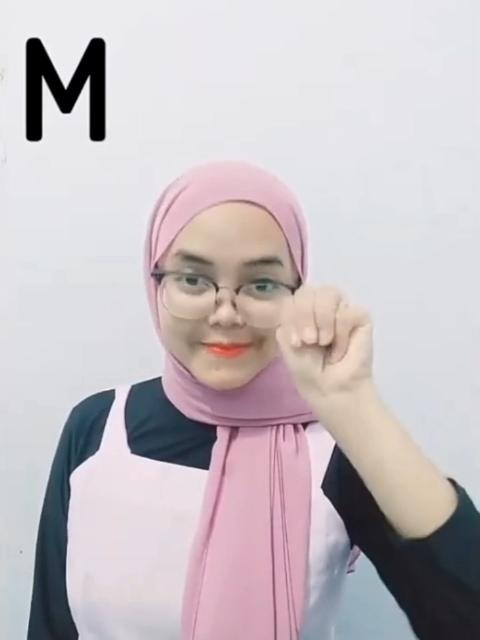M: (276, 284, 382, 406)
